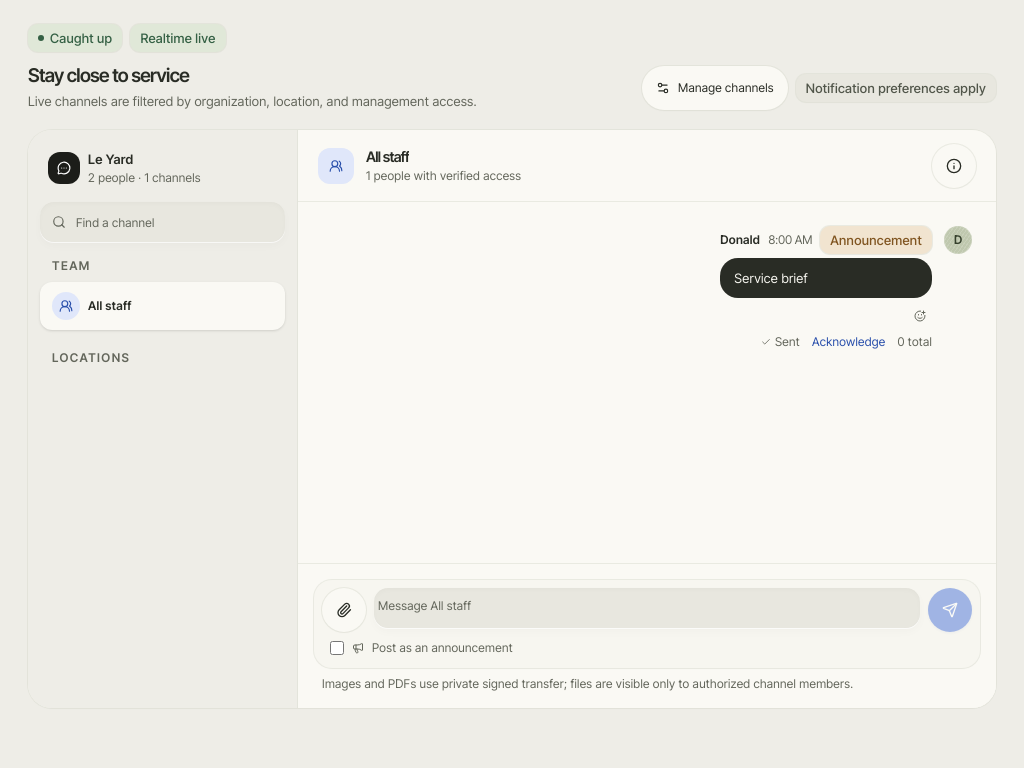
Scenario: connected Messages channel configuration › does not double-count an acknowledgement when the action resolves before its insert event
What coordinates should you click on to do the following:
click the button "Acknowledge"
I would click on:
 (849, 342)
Its box is [808, 334, 890, 350].
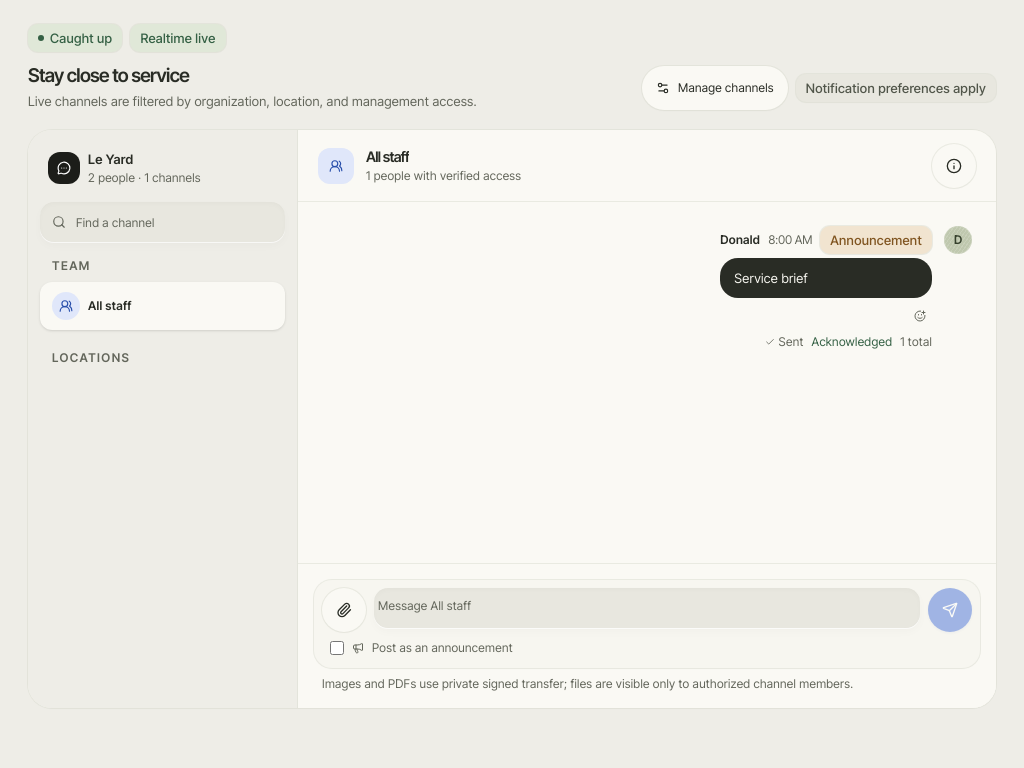
Result: the text "1 total" is shown at [900, 334, 932, 350]
Result: the text "Acknowledged" is shown at [812, 334, 892, 350]
